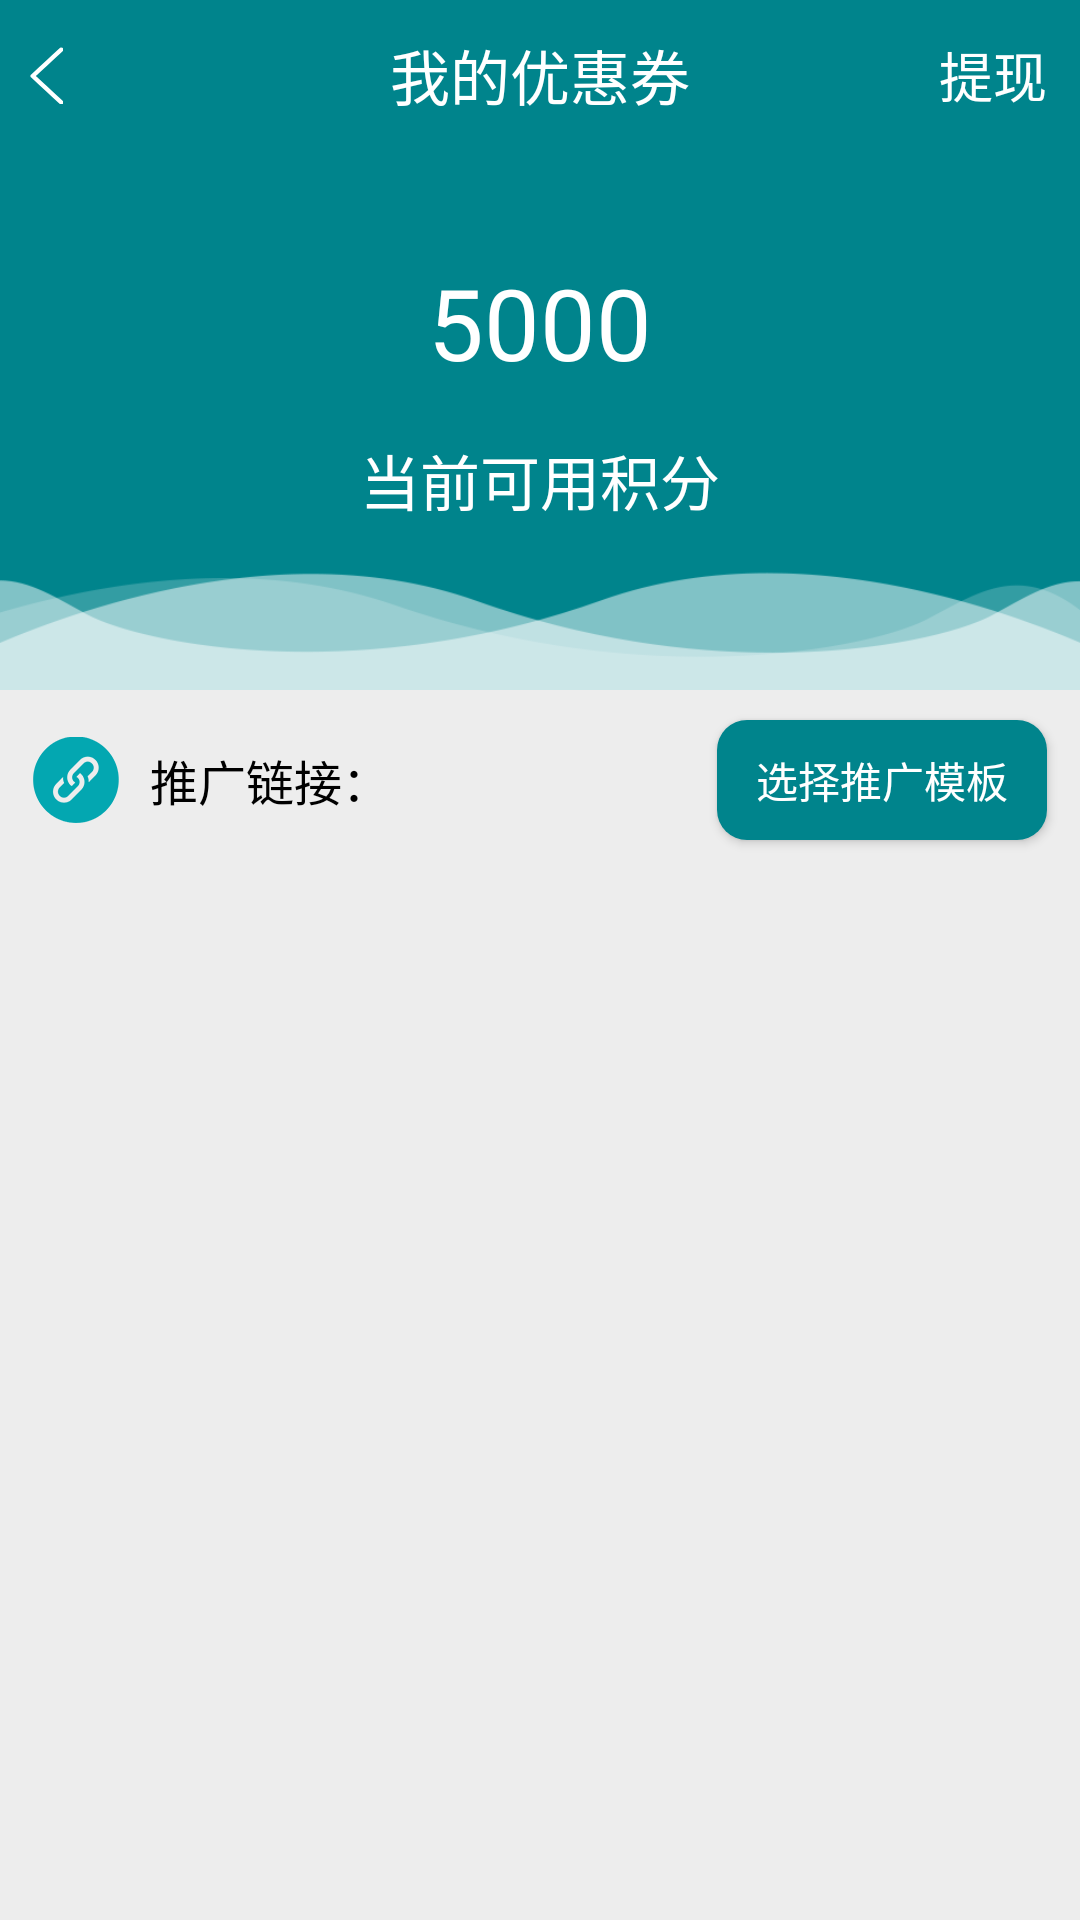

Icon bounding boxes for this 1080 × 1920 phone screenshot, format (x1, y1, x2, y2):
lianjie: (33, 737, 119, 823)
